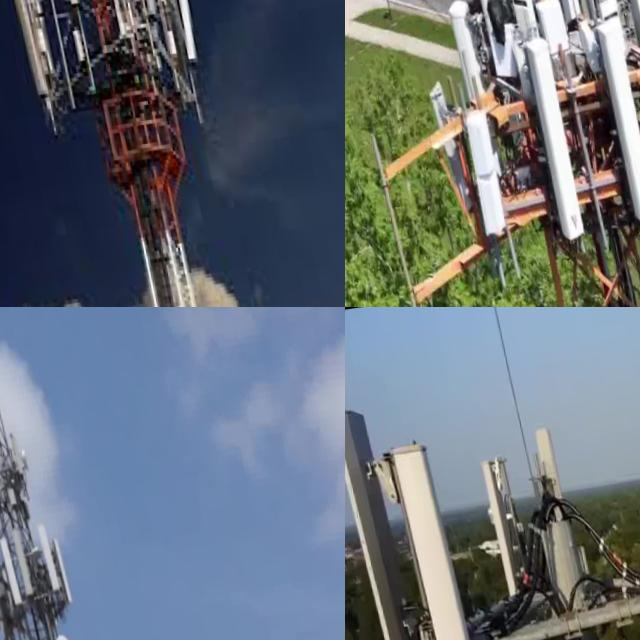GSM Antenna: (382, 436, 519, 640), (345, 398, 456, 640), (468, 451, 551, 640), (517, 37, 589, 251), (588, 20, 640, 230), (416, 75, 472, 218), (453, 108, 504, 242), (435, 0, 482, 102), (0, 0, 49, 93), (523, 420, 566, 518), (25, 514, 62, 624), (0, 509, 33, 614), (37, 519, 70, 619), (159, 0, 205, 67), (0, 524, 22, 623), (458, 0, 505, 44), (614, 0, 640, 58)
Microwave Antenna: (11, 446, 28, 476), (44, 632, 66, 640)
